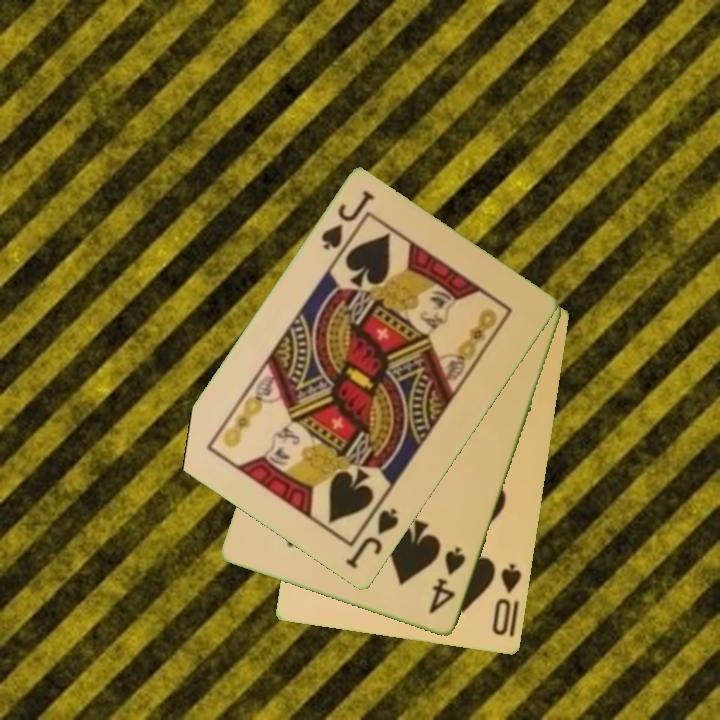10s: (489, 561, 525, 639)
4s: (425, 544, 469, 618)
Js: (317, 187, 378, 262), (342, 504, 402, 572)
